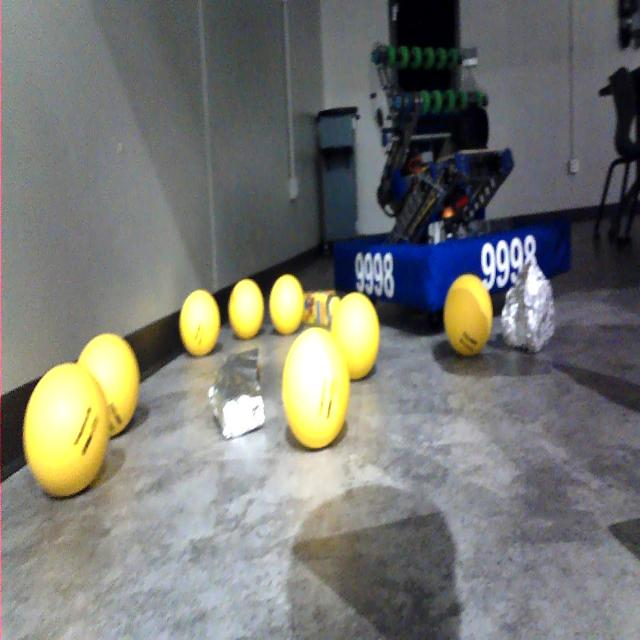Bumper: (328, 226, 571, 303)
fuel: (18, 356, 112, 505), (277, 320, 354, 450), (74, 328, 149, 438), (443, 270, 495, 365), (331, 290, 384, 380), (172, 283, 223, 363), (226, 274, 270, 347), (265, 270, 308, 342)
